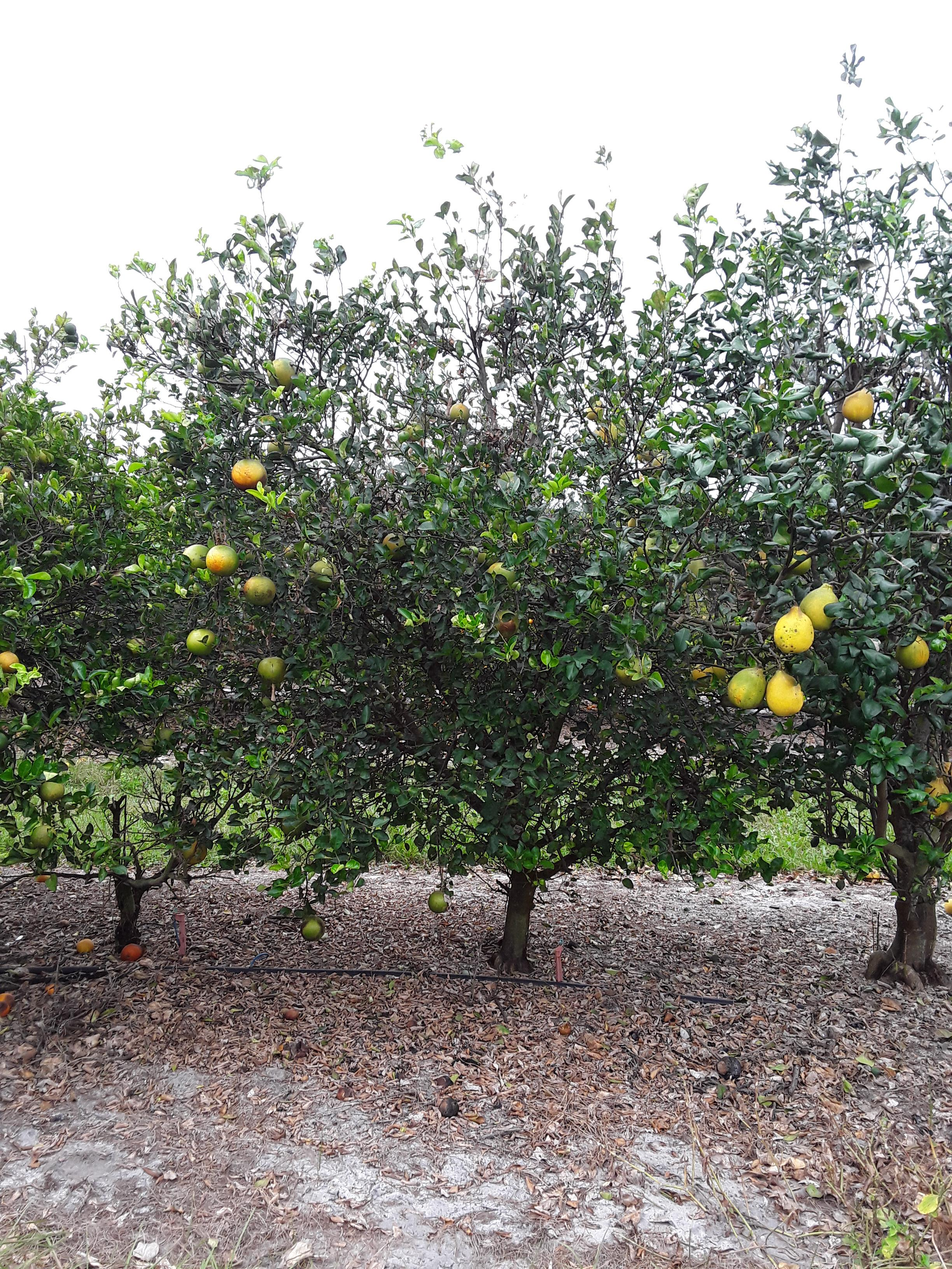fruit_on_ground: (763, 602, 818, 656), (794, 577, 849, 631), (722, 662, 769, 715), (835, 379, 885, 428), (762, 670, 804, 718), (893, 626, 935, 670), (914, 773, 951, 819), (226, 456, 269, 494), (239, 571, 280, 609), (685, 652, 730, 686), (611, 652, 650, 689), (262, 355, 301, 391), (305, 558, 342, 593), (378, 526, 411, 565), (183, 624, 219, 659), (203, 544, 240, 577), (174, 834, 210, 867), (255, 652, 290, 685), (180, 542, 213, 575), (296, 911, 329, 944), (193, 353, 226, 383), (262, 432, 294, 462), (28, 822, 61, 851), (484, 558, 517, 587), (424, 887, 454, 915), (35, 777, 66, 804), (152, 726, 179, 753), (581, 397, 611, 420), (0, 647, 23, 676), (447, 400, 471, 424), (63, 322, 78, 336)
fruit_on_tree: (117, 941, 143, 963), (283, 1004, 304, 1022), (74, 939, 95, 954), (36, 872, 54, 886), (0, 989, 12, 1009)
